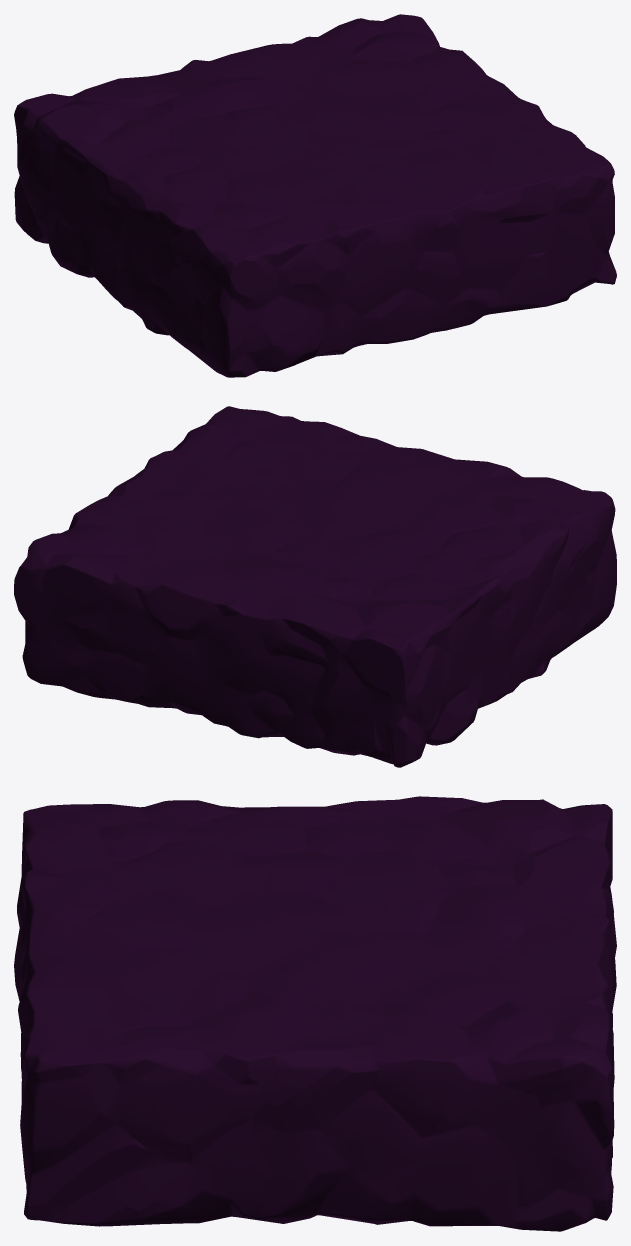
The model's file is SM_RockBlock_Big_01.fbx.
The picture shows the model from 3 angles, top to bottom: view 1: azimuth 30°, elevation 25°; view 2: azimuth 150°, elevation 25°; view 3: azimuth 270°, elevation 25°; orthographic projection. The views are drawn at different scales.
Parts seen in each view (by area): view 1: Cube; view 2: Cube; view 3: Cube.
Boxes of the visible parts, <box> form: Cube: <box>14,14,616,377</box>; Cube: <box>14,406,616,767</box>; Cube: <box>14,796,616,1231</box>.
Size of the model in its own units: 647 by 215 by 615.
Materials: 1 (1 with a texture image).
